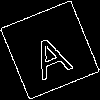A: (25, 25, 75, 81)
